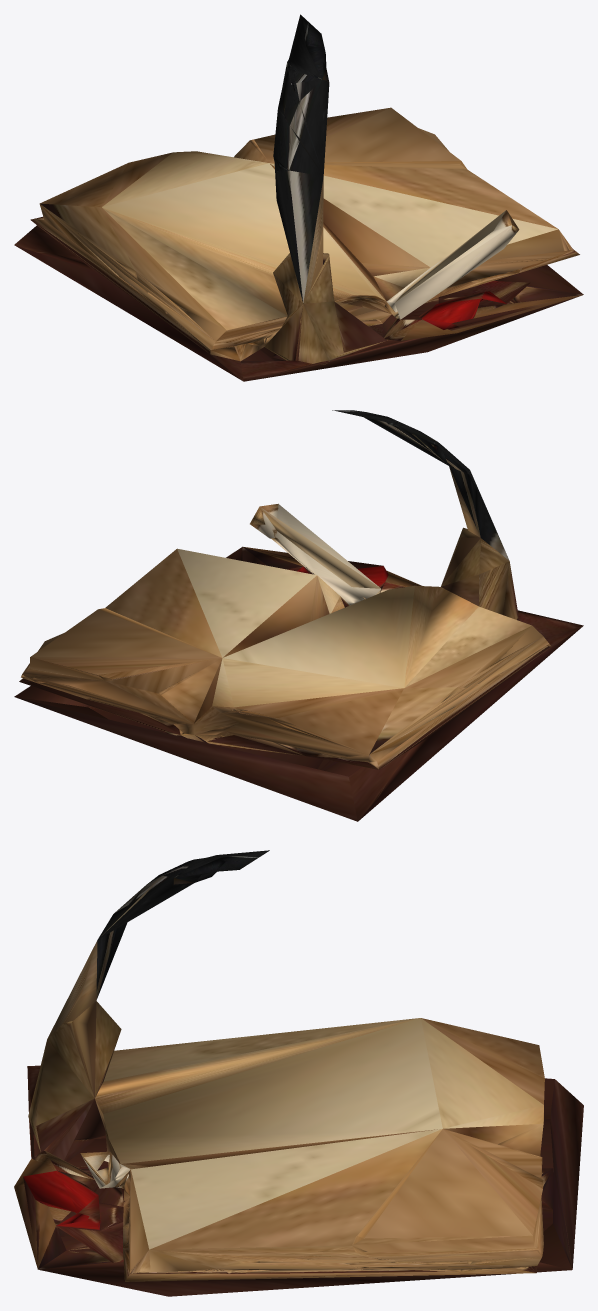
The model's file is writing_set.glb.
The picture shows the model from 3 angles, top to bottom: view 1: azimuth 30°, elevation 25°; view 2: azimuth 150°, elevation 25°; view 3: azimuth 270°, elevation 25°; orthographic projection. The views are drawn at different scales.
Parts seen in each view (by area): view 1: body; view 2: body; view 3: body.
Boxes of the visible parts, left/top/right/bottom form: body: left=14, top=14, right=583, bottom=381; body: left=14, top=410, right=583, bottom=821; body: left=14, top=850, right=583, bottom=1296.
Size of the model in its own units: 0.3921 by 0.324 by 0.4225.
1 material, 1 textured.
